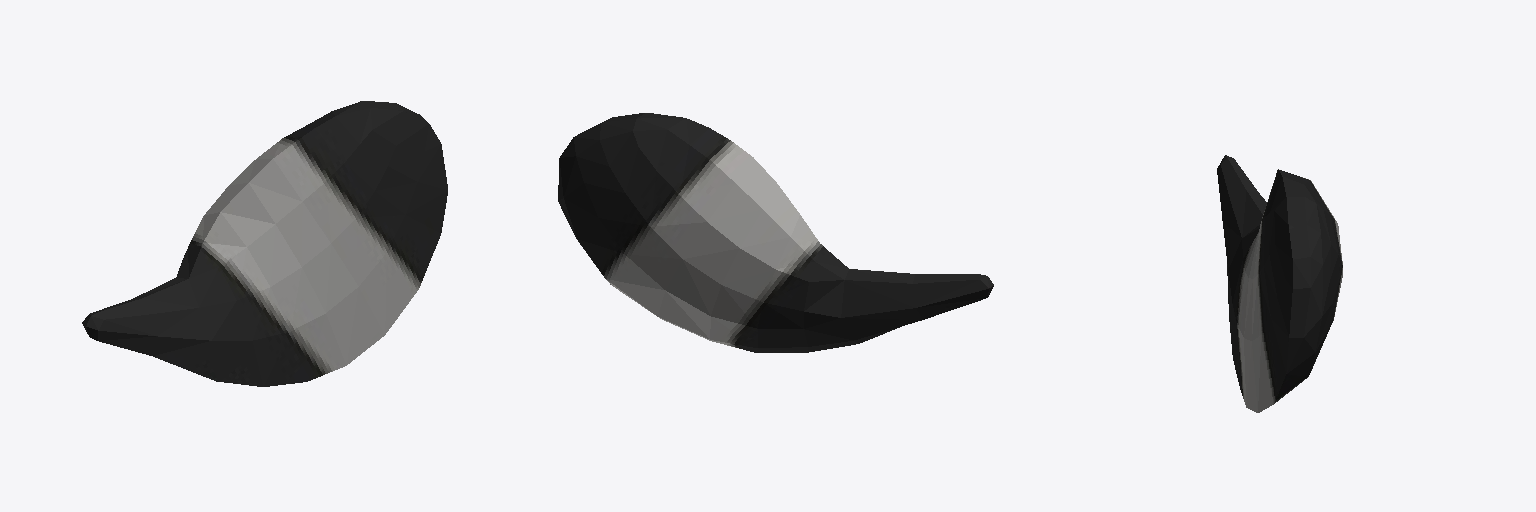
The picture shows the model from 3 angles: view 1: azimuth 30°, elevation 25°; view 2: azimuth 150°, elevation 25°; view 3: azimuth 270°, elevation 25°; orthographic projection.
Visible parts, largest first — view 1: ala_izq_cerrada; view 2: ala_izq_cerrada; view 3: ala_izq_cerrada.
Boxes of the visible parts, <box> form: ala_izq_cerrada: <box>82,101,447,386</box>; ala_izq_cerrada: <box>558,113,993,352</box>; ala_izq_cerrada: <box>1217,155,1342,412</box>.
Size of the model in its own units: 9.32 by 5.36 by 2.57.
Materials: 1 (1 with a texture image).